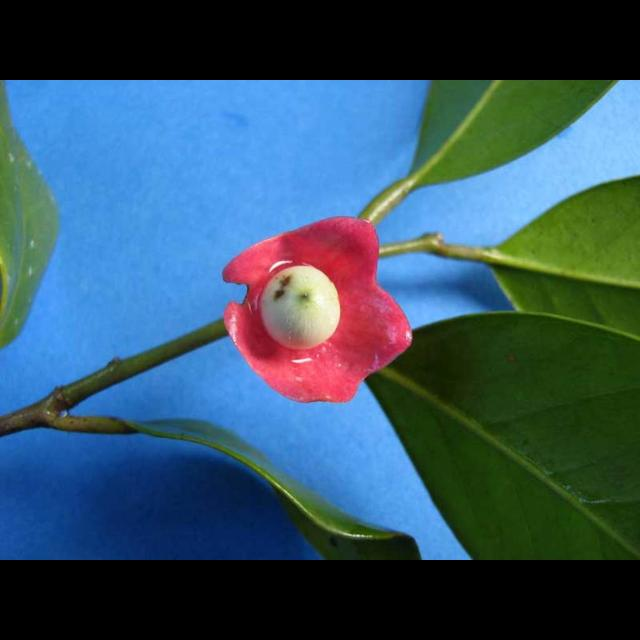Flower: (220, 211, 388, 411)
